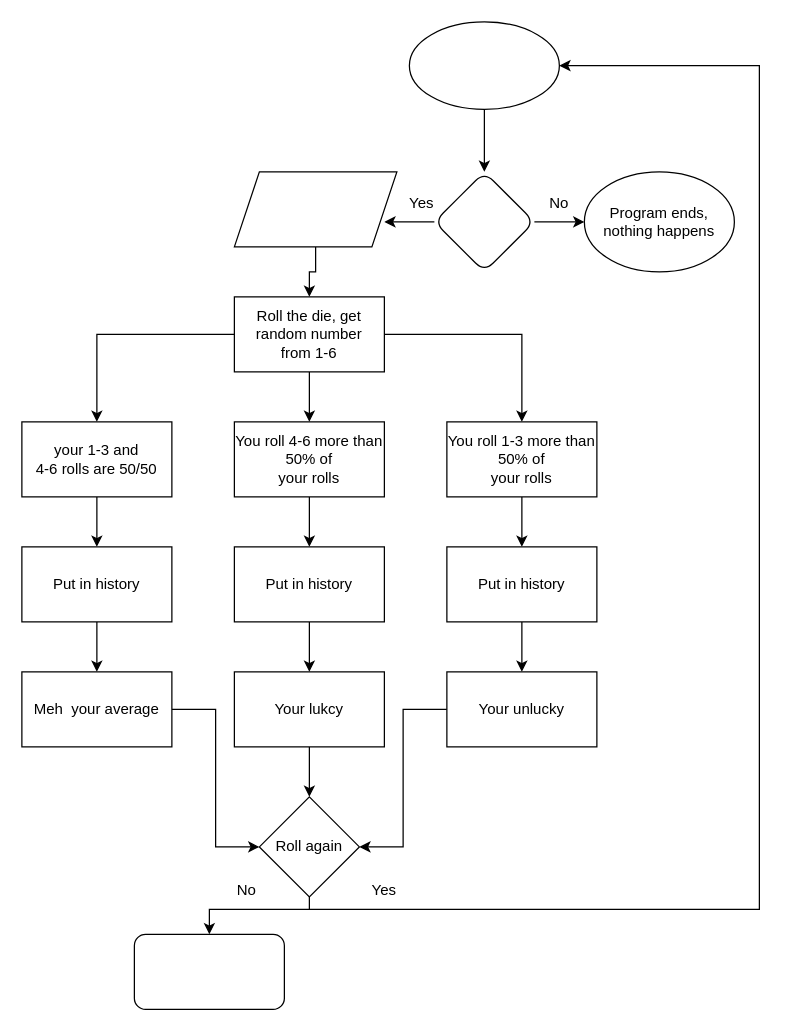
This 791x1031 diagram has some shape labels left out. Here are the shapes that lost their labels. From the top down, the box of each, then its label:
(408, 21, 559, 109): Start
(233, 171, 397, 247): User input, how much times to roll the die
(433, 171, 534, 272): roll die?
(133, 933, 284, 1009): Program ends
